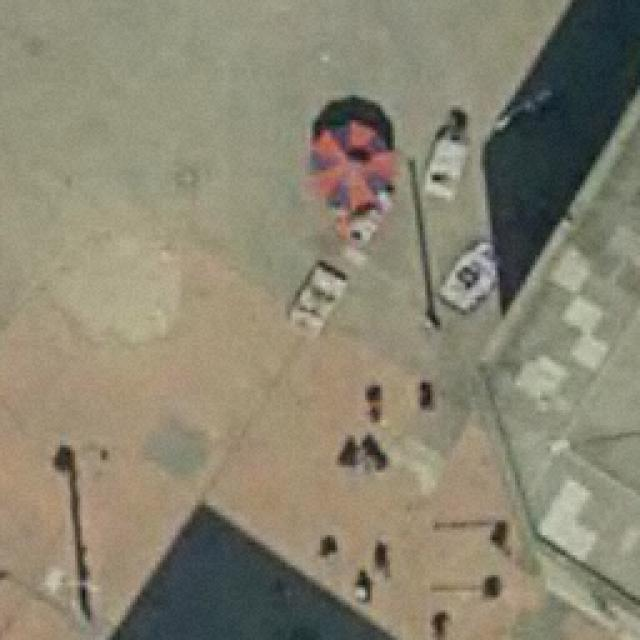vendedor_ambulante: (298, 116, 405, 220)
